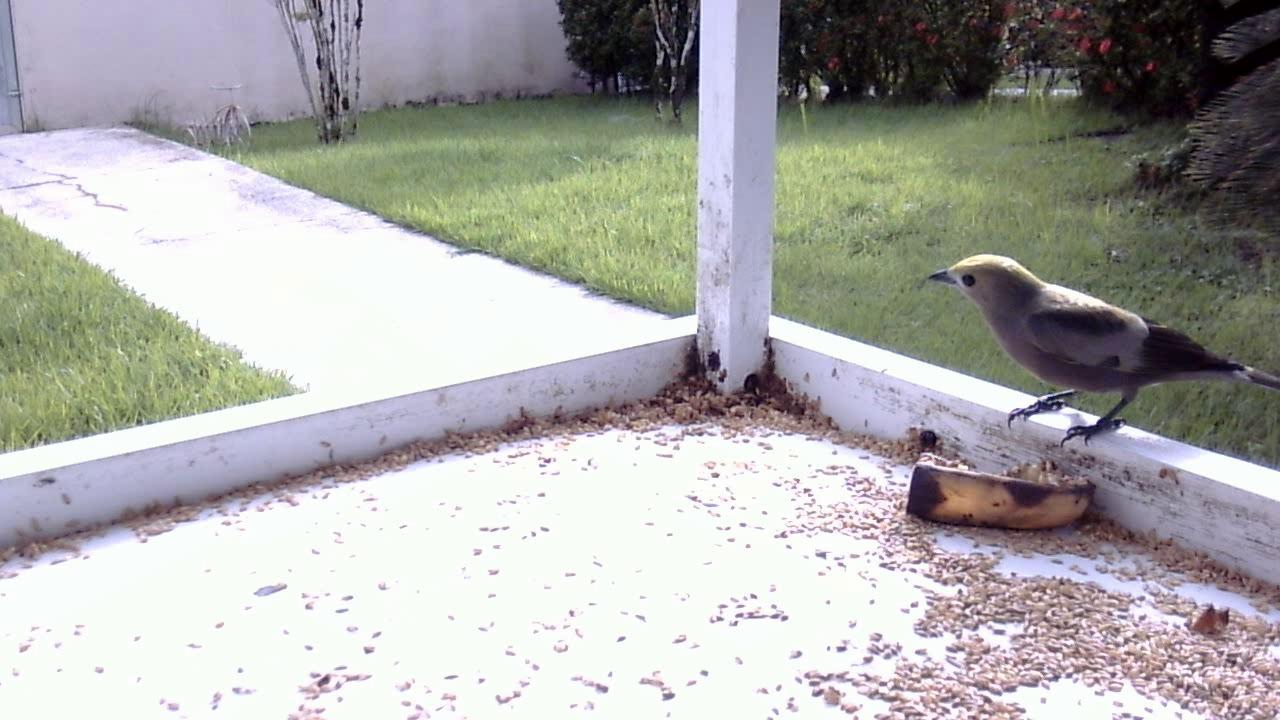sanhaco_do_coqueiro: (917, 248, 1276, 455)
